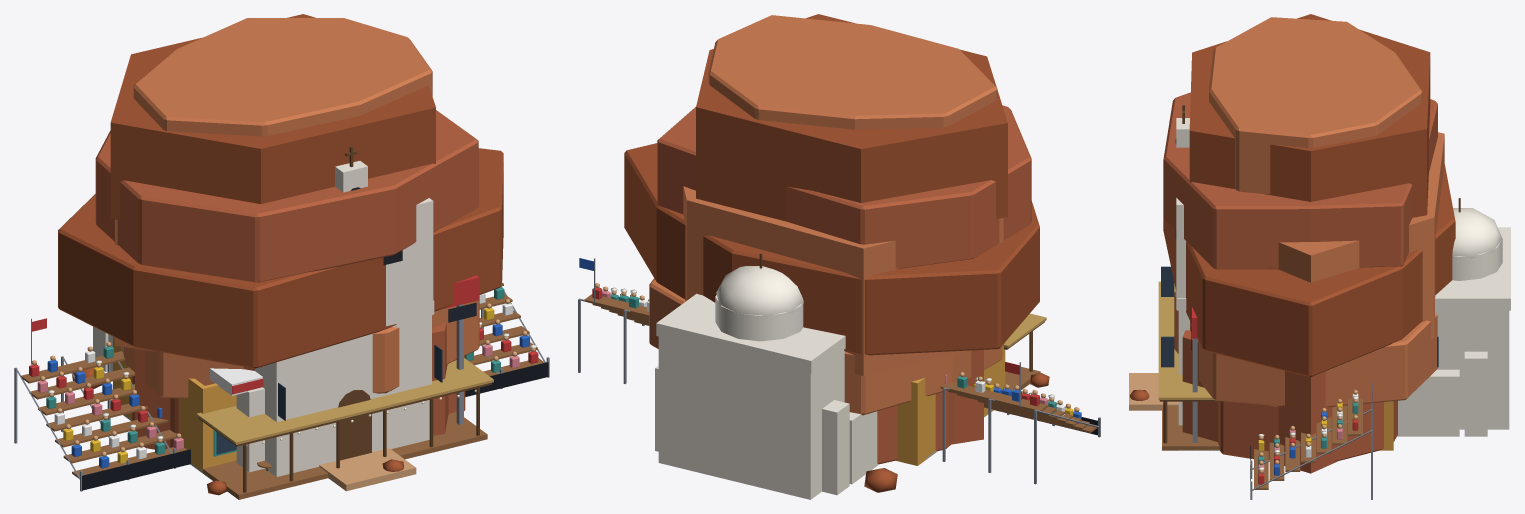
Rendered from baja.glb.
3 renders of one model, left to right at view 1: azimuth 30°, elevation 25°; view 2: azimuth 150°, elevation 25°; view 3: azimuth 270°, elevation 25°, orthographic. The views are drawn at different scales.
Visible parts, largest first — view 1: mesa, mesa~far, stand, mission~far, mission, cantina, cantina~far, gas, gas~far; view 2: mesa, mesa~far, mission, mission~far, stand, cantina, cantina~far, gas; view 3: mesa, mesa~far, mission, mission~far, stand, gas, cantina~far, gas~far, cantina.
Boxes of the visible parts, bbox=[...] form: mesa: bbox=[58, 18, 503, 495]; mesa~far: bbox=[110, 14, 448, 449]; stand: bbox=[14, 281, 549, 491]; mission~far: bbox=[93, 161, 434, 491]; mission: bbox=[94, 146, 442, 489]; cantina: bbox=[115, 345, 493, 499]; cantina~far: bbox=[113, 336, 493, 499]; gas: bbox=[109, 275, 478, 492]; gas~far: bbox=[108, 275, 479, 395]; mesa: bbox=[624, 15, 1049, 492]; mesa~far: bbox=[683, 14, 1007, 444]; mission: bbox=[657, 253, 848, 495]; mission~far: bbox=[655, 293, 849, 499]; stand: bbox=[578, 258, 1100, 484]; cantina: bbox=[898, 314, 1046, 461]; cantina~far: bbox=[895, 313, 1046, 465]; gas: bbox=[849, 409, 992, 482]; mesa: bbox=[1130, 17, 1455, 461]; mesa~far: bbox=[1182, 14, 1444, 473]; mission: bbox=[1129, 105, 1509, 434]; mission~far: bbox=[1129, 118, 1510, 436]; stand: bbox=[1250, 382, 1372, 499]; gas: bbox=[1179, 308, 1457, 450]; cantina~far: bbox=[1158, 281, 1393, 450]; gas~far: bbox=[1192, 307, 1459, 436]; cantina: bbox=[1159, 282, 1390, 450].
Size of the model in its own units: 30.12 by 21.43 by 23.1.
